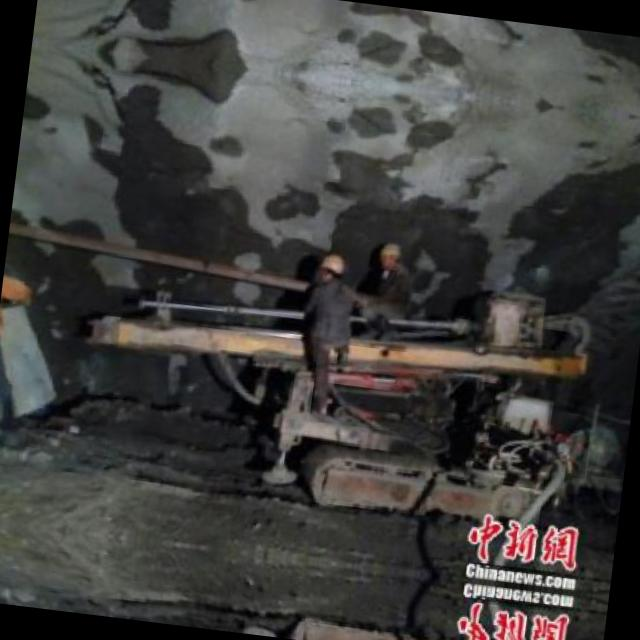helmet: (378, 237, 408, 272), (316, 252, 348, 284)
